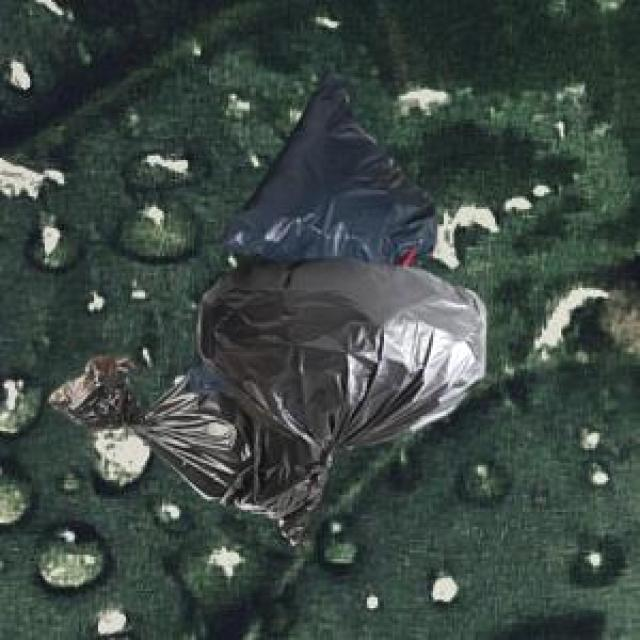Trashbag: (192, 257, 488, 515)
